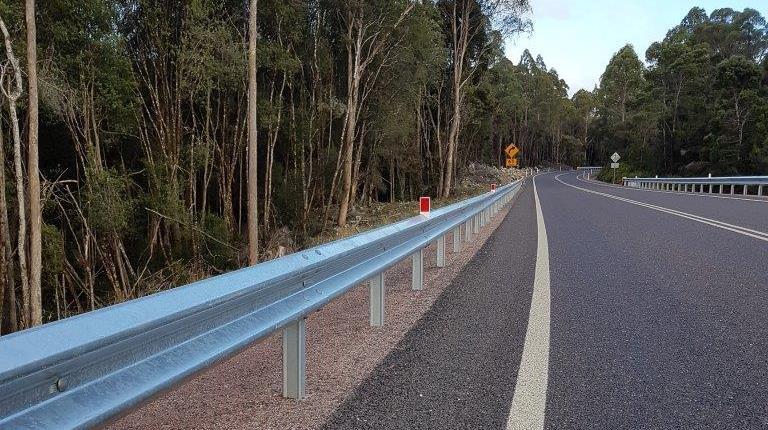not_damaged: (35, 137, 531, 430)
